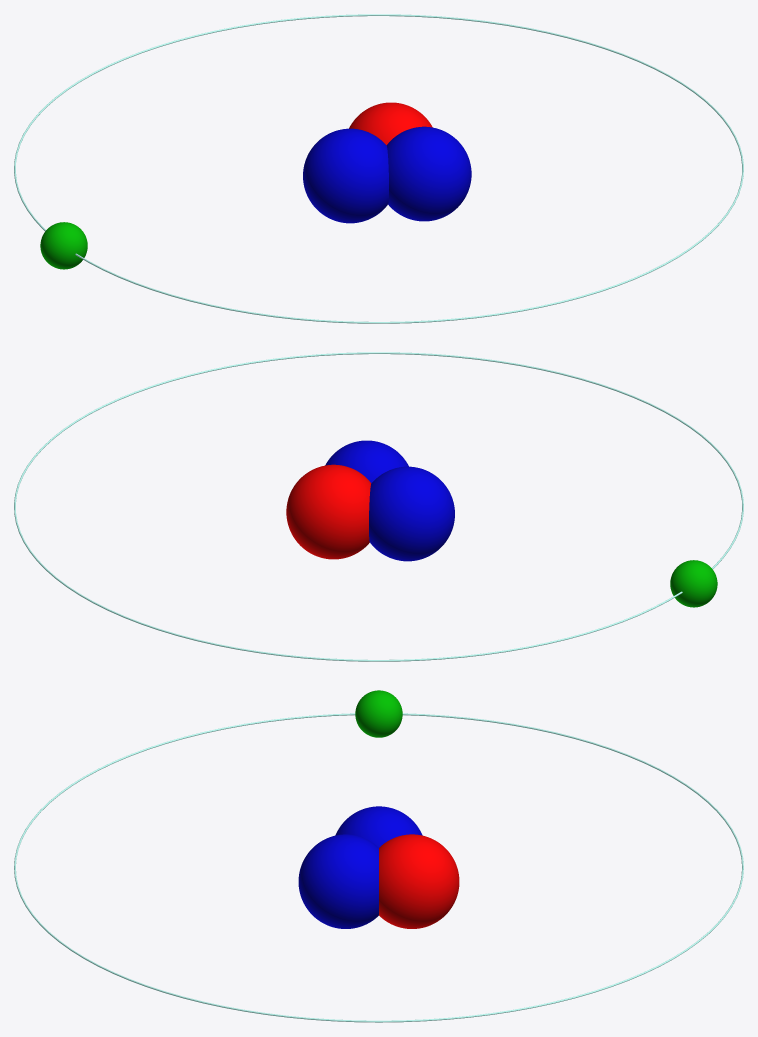
File: 7hidrogen-3.glb
The picture shows the model from 3 angles, top to bottom: view 1: azimuth 30°, elevation 25°; view 2: azimuth 150°, elevation 25°; view 3: azimuth 270°, elevation 25°; orthographic projection.
Visible parts, largest first — view 1: Esfera_3, Esfera_2, Toroide, Esfera, Esfera_1; view 2: Esfera_3, Esfera, Toroide, Esfera_2, Esfera_1; view 3: Esfera_2, Esfera, Toroide, Esfera_3, Esfera_1.
Boxes of the visible parts, x1,y1,x2,y2 form: Esfera_3: (303, 128, 388, 223); Esfera_2: (386, 126, 471, 221); Toroide: (14, 14, 743, 323); Esfera: (349, 102, 432, 145); Esfera_1: (40, 222, 87, 269); Esfera_3: (369, 466, 454, 561); Esfera: (286, 464, 371, 559); Toroide: (14, 352, 743, 661); Esfera_2: (325, 440, 408, 483); Esfera_1: (670, 560, 717, 607); Esfera_2: (298, 834, 378, 928); Esfera: (379, 834, 459, 928); Toroide: (14, 713, 743, 1022); Esfera_3: (335, 806, 422, 847); Esfera_1: (355, 690, 402, 737).
Size of the model in its own units: 1589 by 200 by 1542.
